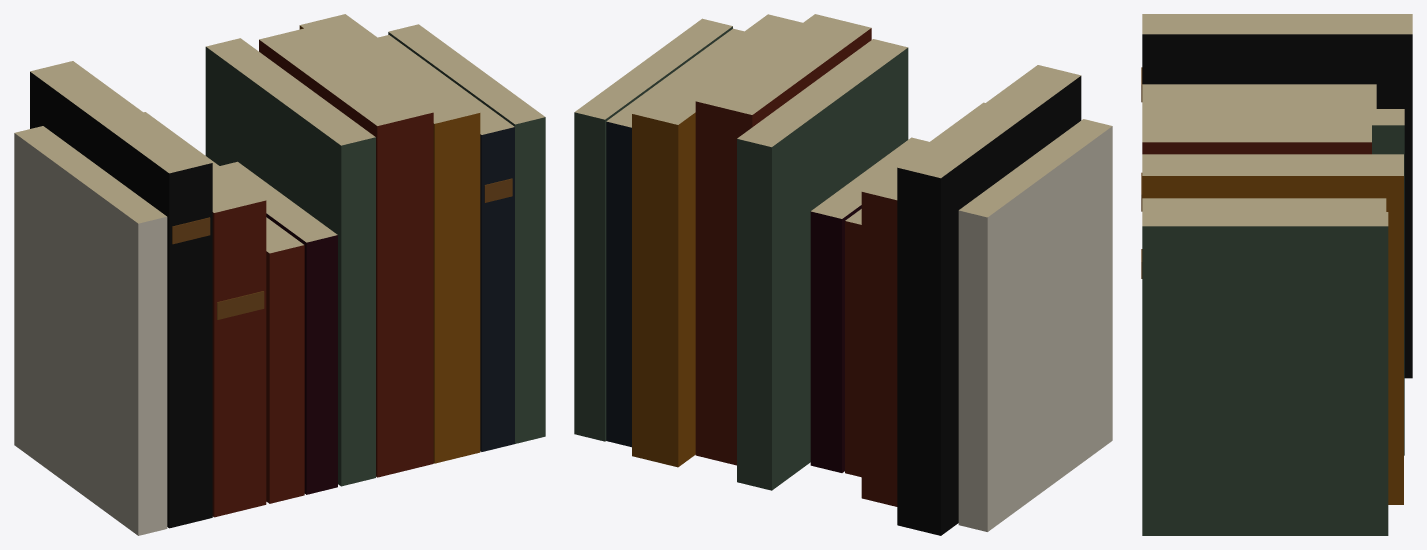
The picture shows the model from 3 angles, left to right: view 1: azimuth 30°, elevation 25°; view 2: azimuth 150°, elevation 25°; view 3: azimuth 270°, elevation 25°; orthographic projection. The views are drawn at different scales.
Visible parts, largest first — view 1: books-row-30; view 2: books-row-30; view 3: books-row-30.
Boxes of the visible parts, x1,y1,x2,y2 form: books-row-30: (14, 14, 545, 535); books-row-30: (574, 14, 1112, 535); books-row-30: (1141, 14, 1412, 535).
Bounding box in the file's own units: 0.2914 × 0.2427 × 0.1735.
